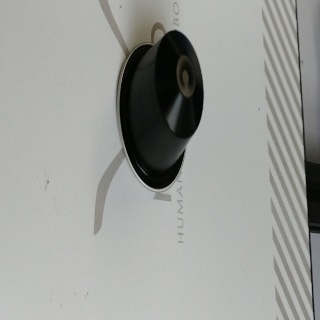capsule_10: (116, 29, 204, 191)
